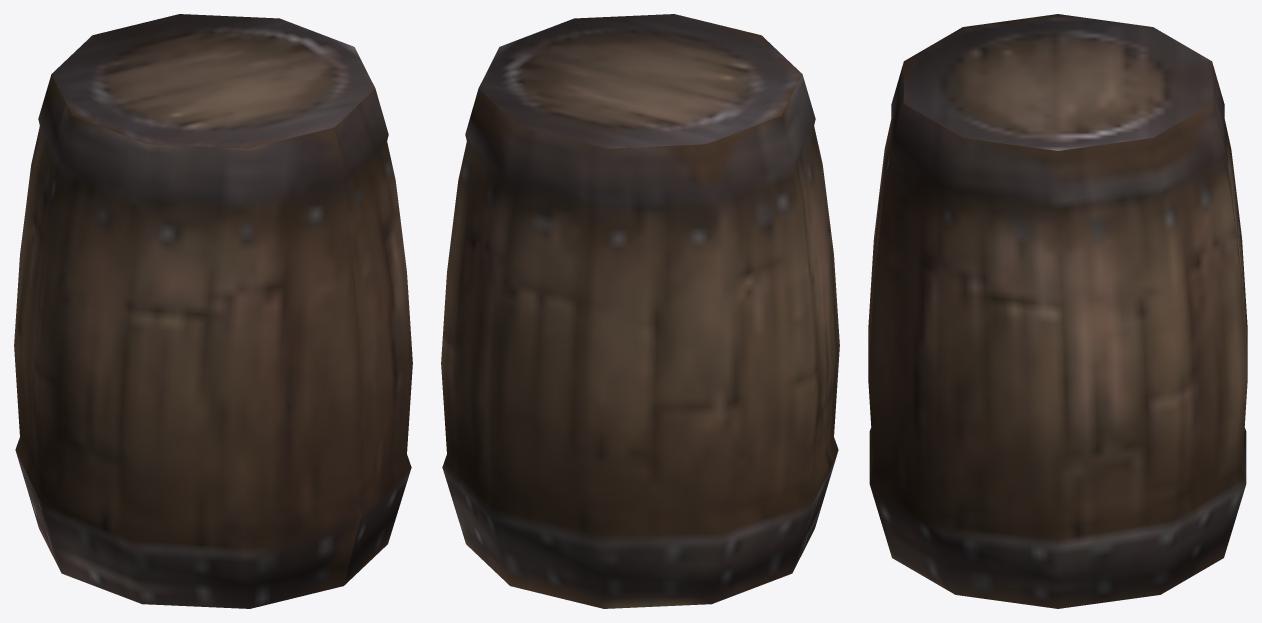
The model's file is Props_K.fbx.
3 renders of one model, left to right at view 1: azimuth 30°, elevation 25°; view 2: azimuth 150°, elevation 25°; view 3: azimuth 270°, elevation 25°, orthographic.
Visible parts, largest first — view 1: Props_K__2_; view 2: Props_K__2_; view 3: Props_K__2_.
Part boxes in pixels (x1,y1,x2,y2): Props_K__2_: (14,14,412,608); Props_K__2_: (441,14,839,608); Props_K__2_: (868,14,1247,608).
Bounding box in the file's own units: 0.1449 × 0.1815 × 0.1378.
